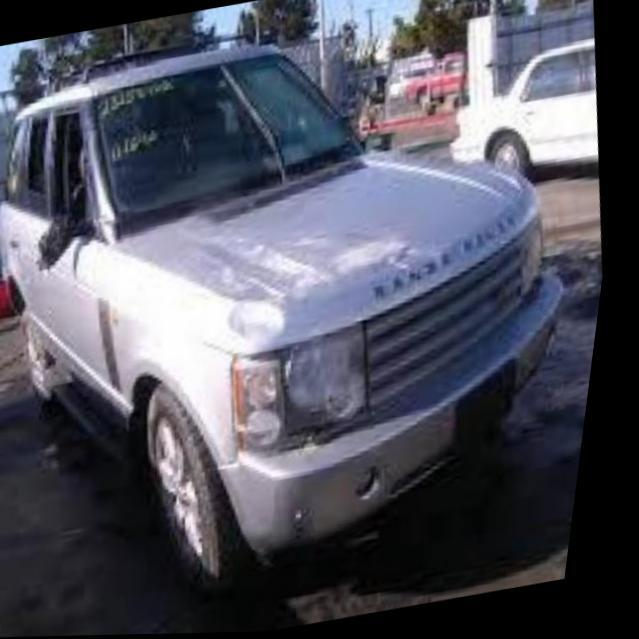rub: (188, 217, 440, 352)
